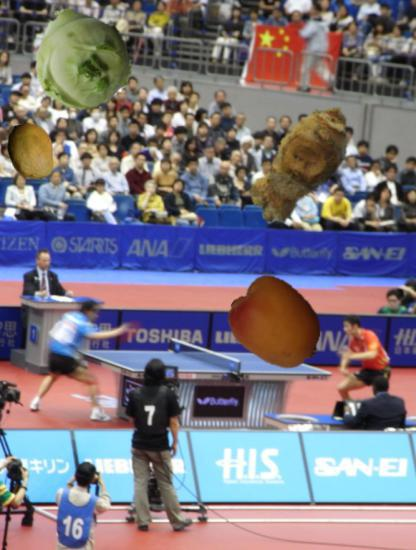Apricot: (229, 274, 326, 371)
Ginger: (234, 96, 371, 233)
Kohlrabi: (25, 4, 133, 112)
Papaya: (2, 123, 61, 182)
